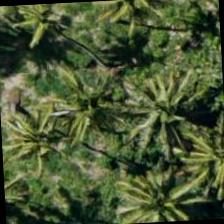Kelapa_Sawit: (111, 58, 206, 153), (0, 85, 88, 180), (108, 151, 202, 223), (7, 0, 100, 66), (169, 106, 223, 200)
